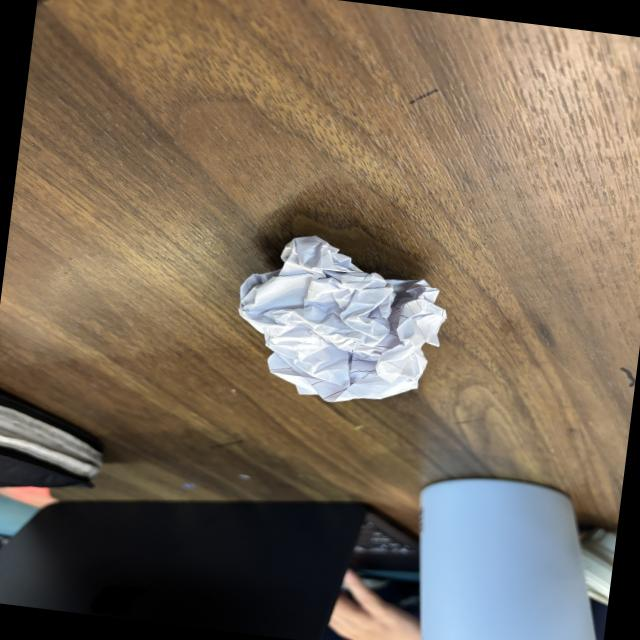crumpled_paper: (215, 216, 470, 427)
